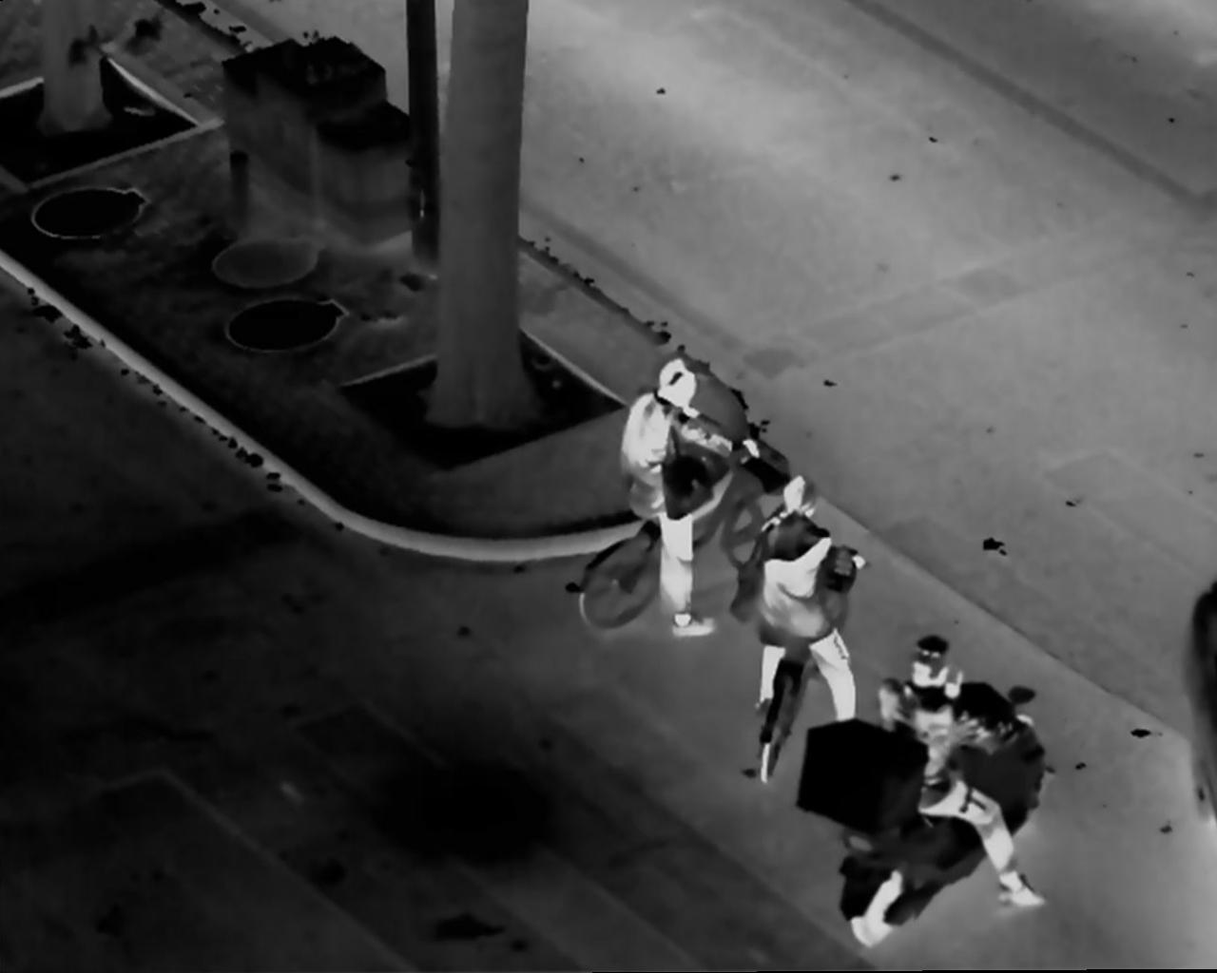person: (879, 635, 1053, 909), (617, 356, 741, 638), (745, 473, 863, 767)
